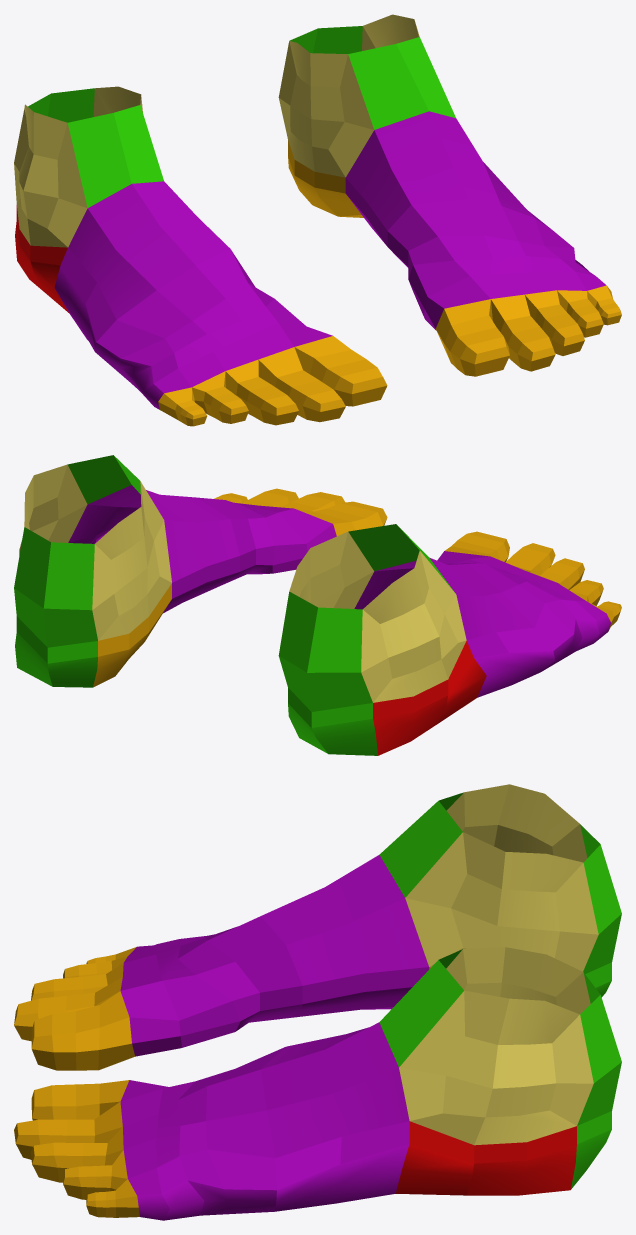
The model's file is FEET.fbx.
3 renders of one model, top to bottom at view 1: azimuth 30°, elevation 25°; view 2: azimuth 150°, elevation 25°; view 3: azimuth 270°, elevation 25°, orthographic. The views are drawn at different scales.
Visible parts, largest first — view 1: polySurface11, polySurface10; view 2: polySurface11, polySurface10; view 3: polySurface10, polySurface11.
Boxes of the visible parts, <box> form: polySurface11: <box>14,86,387,426</box>; polySurface10: <box>278,14,621,376</box>; polySurface11: <box>278,524,621,755</box>; polySurface10: <box>14,455,387,687</box>; polySurface10: <box>14,947,621,1220</box>; polySurface11: <box>14,784,621,1070</box>.
Size of the model in its own units: 6.07 by 2.39 by 6.02.
